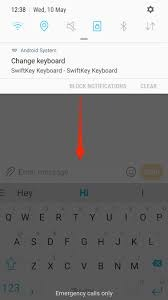keyboard: (5, 210, 166, 274)
